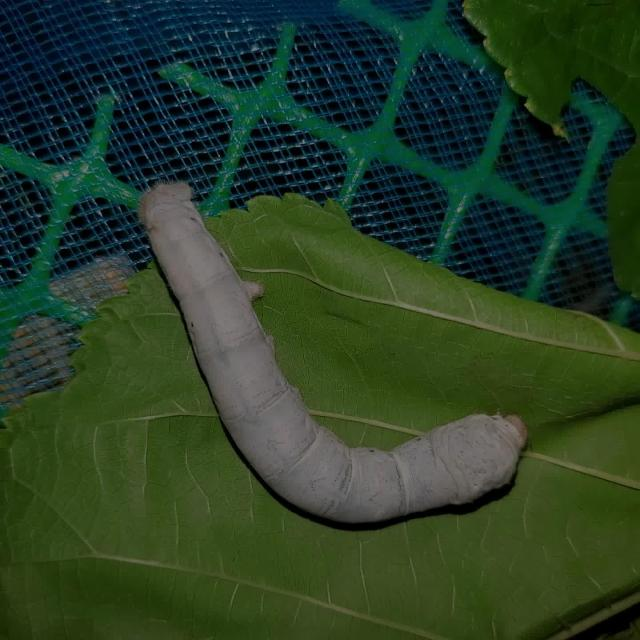Healthy: (131, 174, 537, 536)
